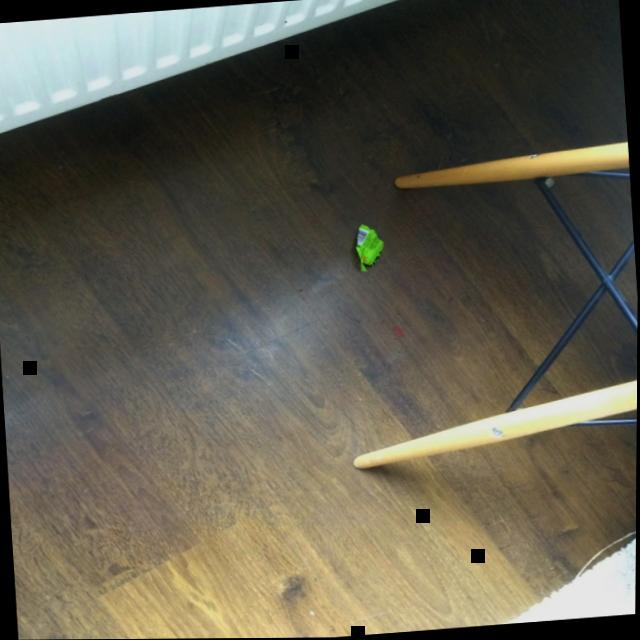Other plastic: (355, 223, 383, 271)
